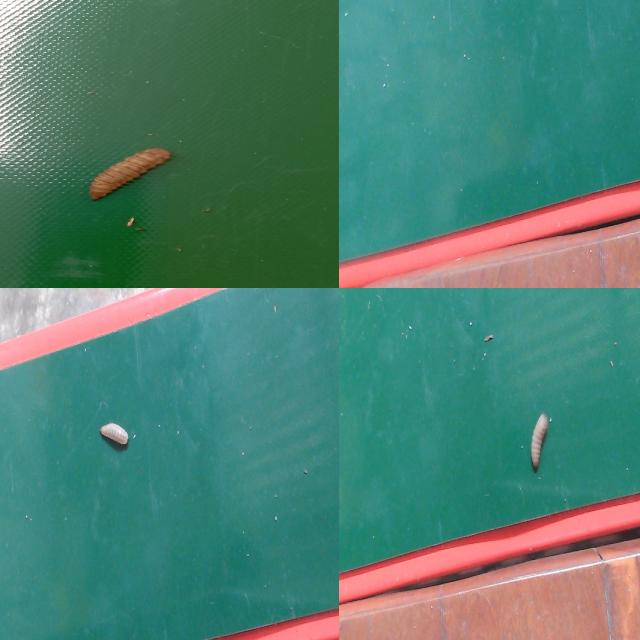Maggot: (89, 148, 171, 201), (528, 414, 550, 473), (98, 421, 132, 452)
